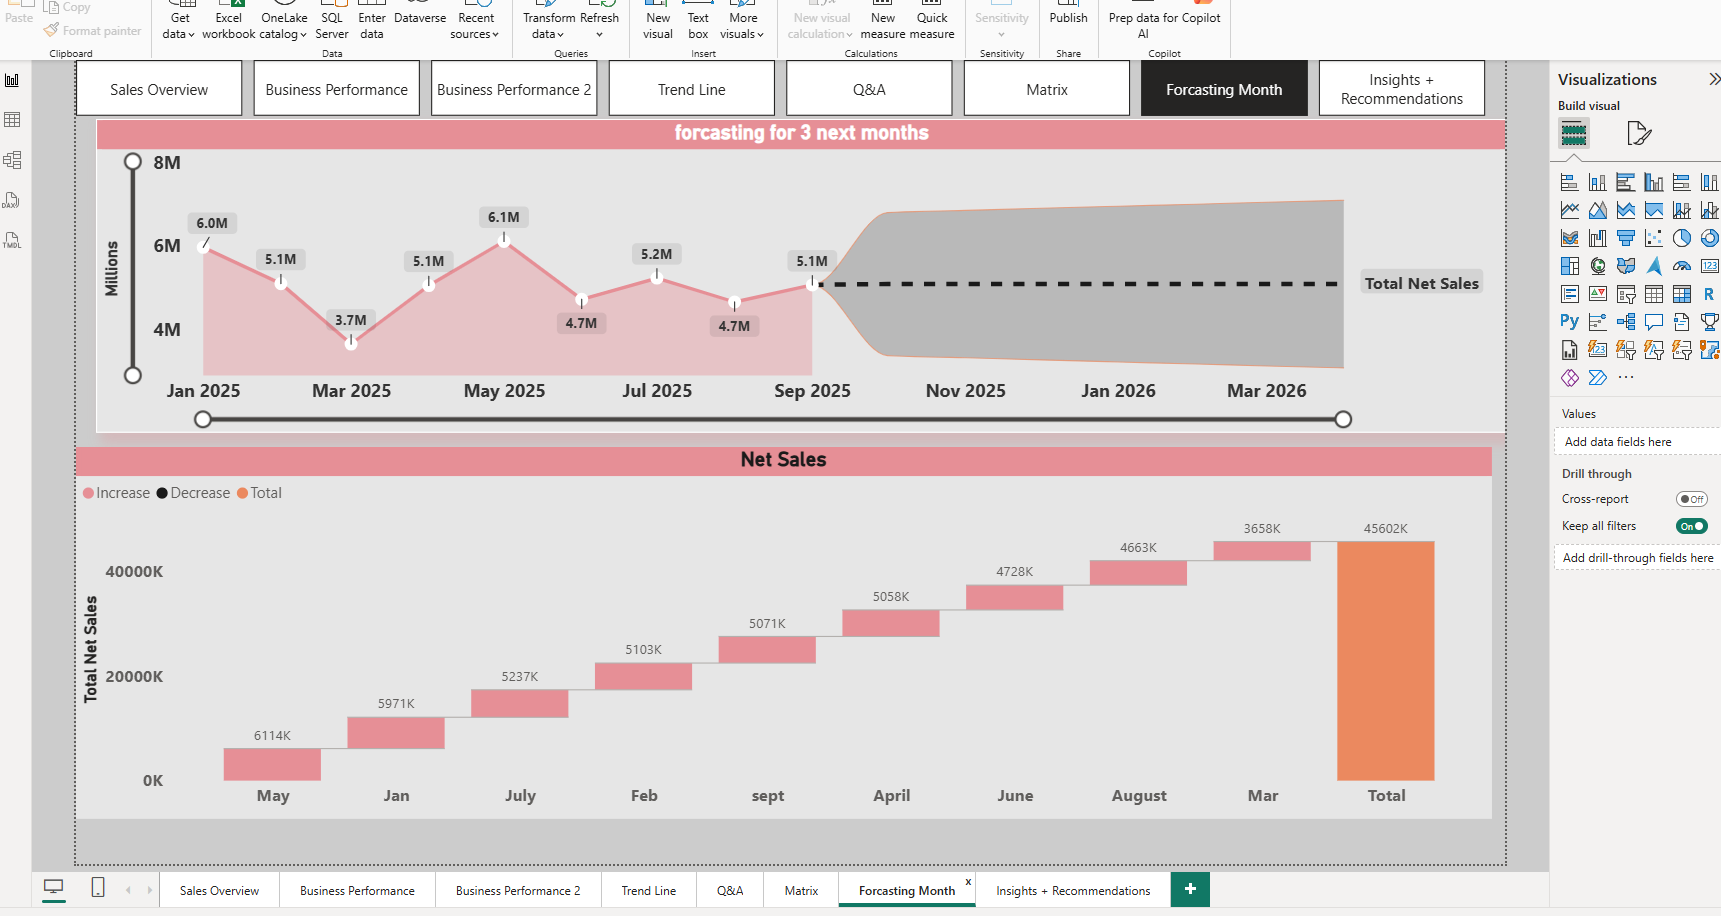

The dashboard page shown, as its layout file describes it:
{"tool":"powerbi","page":{"name":"Forcasting  Month","canvas":[1280,720],"ordinal":6},"visuals":[{"type":"lineChart","title":"forcasting for 3 next months ","fields":{"Category":["Calender.Date"],"Y":["Fact Table.Total Net Sales"]},"box":[17.5,52.4,1262.5,280.7],"z":0},{"type":"waterfallChart","title":"Net Sales","fields":{"Y":["Fact Table.Total Net Sales"],"Category":["Fact Table.Month"]},"box":[0,346.8,1267.5,333.1],"z":1000},{"type":"pageNavigator","box":[0,0,1264.4,50.1],"z":2001}]}

Visuals, with their boxes on the page's 1280x720 design canvas (x1, y1, x2, y2). These are canvas units, not pixel positions in the 1721x916 screenshot, which may show the page scaled, cropped or inside an application window:
"forcasting for 3 next months " lineChart: rect(18, 52, 1280, 333)
"Net Sales" waterfallChart: rect(0, 347, 1268, 680)
pageNavigator: rect(0, 0, 1264, 50)
